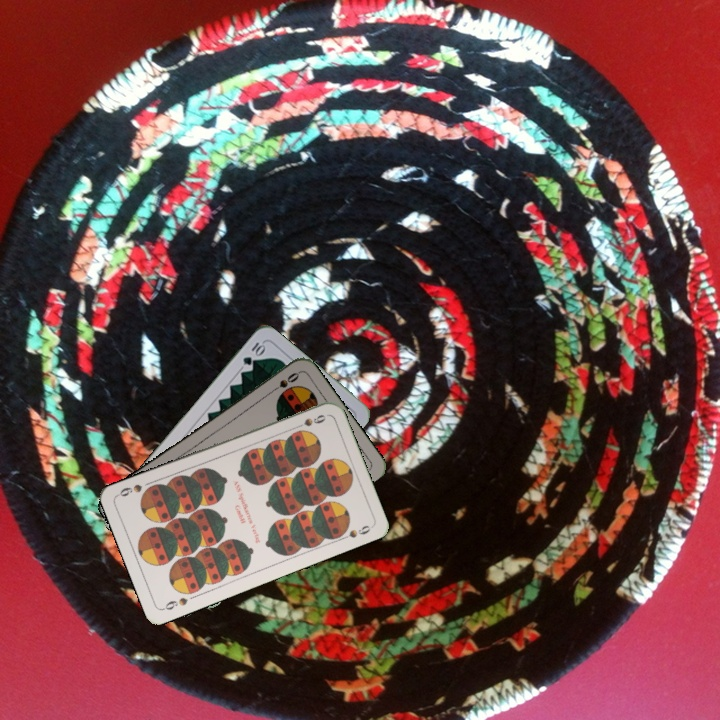G10: (239, 338, 268, 368)
S9: (290, 410, 328, 432), (159, 593, 190, 613)
SO: (266, 368, 302, 396)
